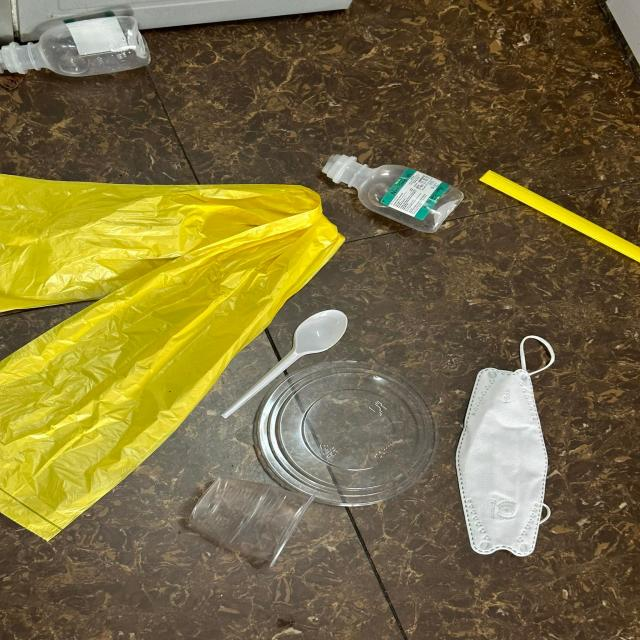bag: (0, 171, 349, 543)
bottle: (320, 152, 466, 232), (0, 15, 152, 79)
drinking straw: (477, 169, 640, 263)
lid: (253, 360, 442, 508)
mask: (456, 334, 555, 557)
plastic glass: (188, 476, 314, 568)
plastic utensil: (221, 309, 348, 419)
